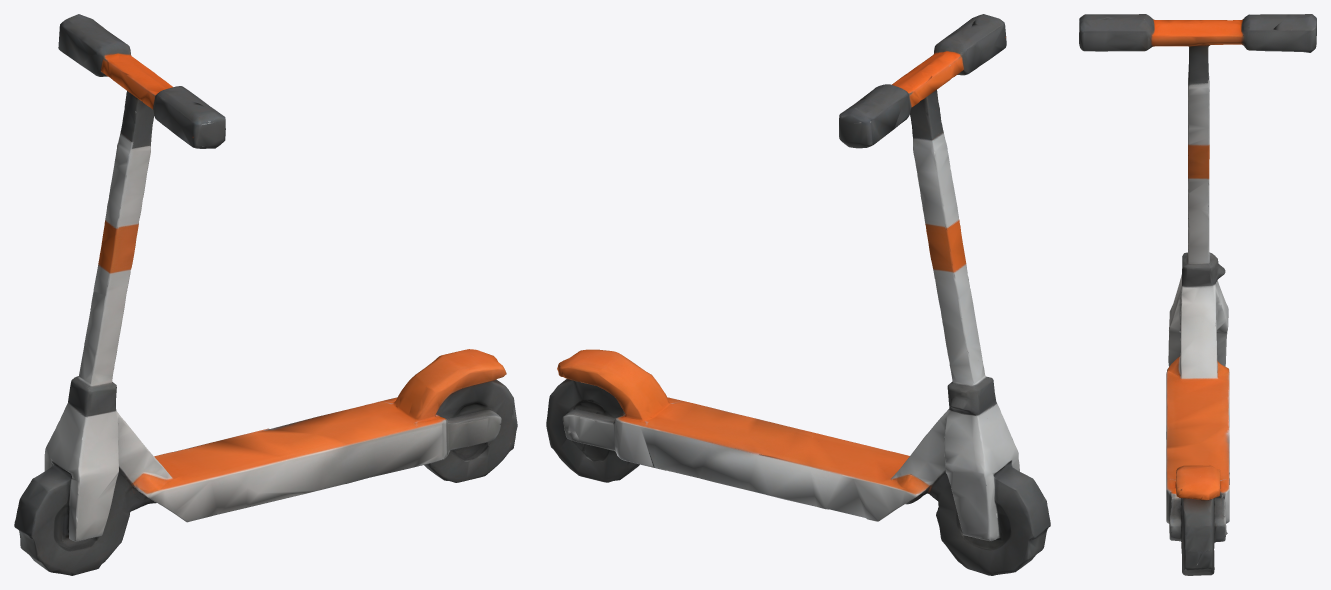
The model's file is Meshy_AI_Orange_and_White_Kick_0518161615_texture.fbx.
The picture shows the model from 3 angles, left to right: view 1: azimuth 30°, elevation 25°; view 2: azimuth 150°, elevation 25°; view 3: azimuth 270°, elevation 25°; orthographic projection. The views are drawn at different scales.
Parts seen in each view (by area): view 1: Mesh_0; view 2: Mesh_0; view 3: Mesh_0.
Part boxes in pixels (x1=…): Mesh_0: x1=14, y1=14, x2=517, y2=575; Mesh_0: x1=546, y1=14, x2=1050, y2=575; Mesh_0: x1=1079, y1=14, x2=1316, y2=575.
Size of the model in its own units: 200 by 192 by 98.36.
Materials: 1 (1 with a texture image).
